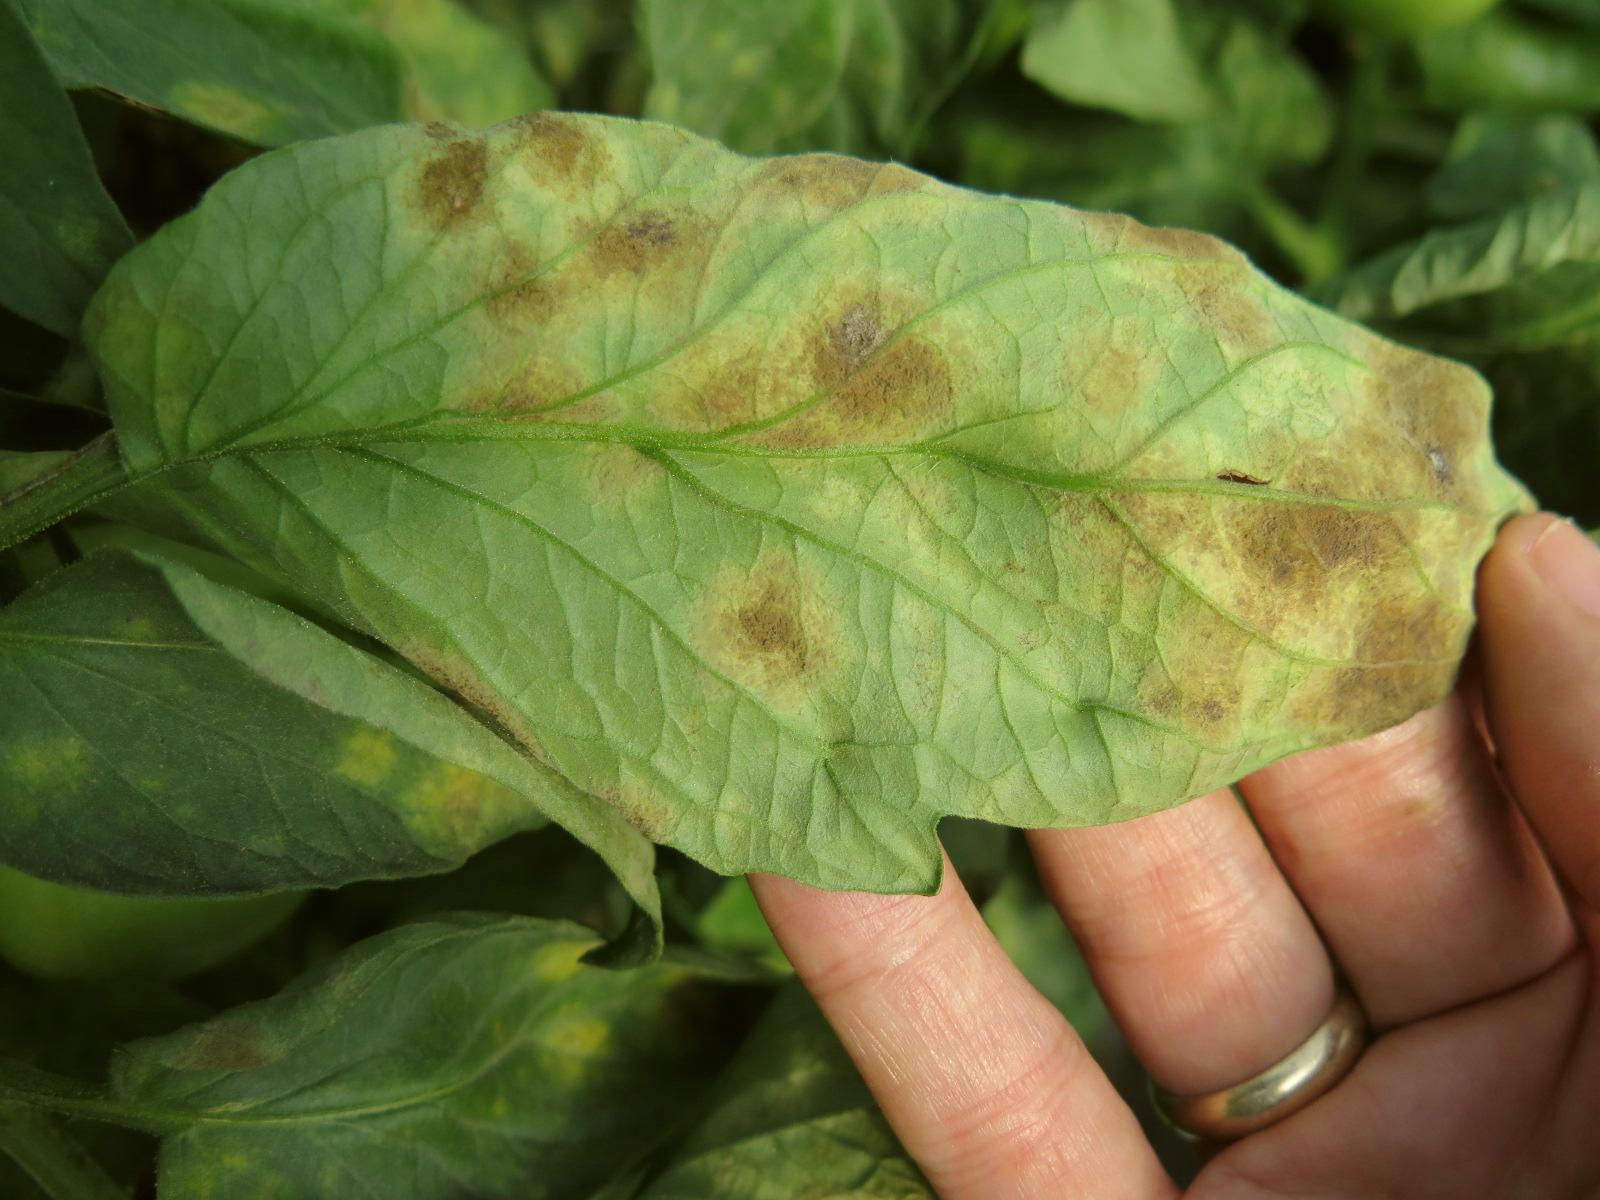Tomato mold leaf: (36, 102, 1573, 888)
